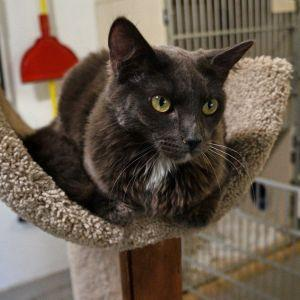rblue: (96, 13, 253, 172)
